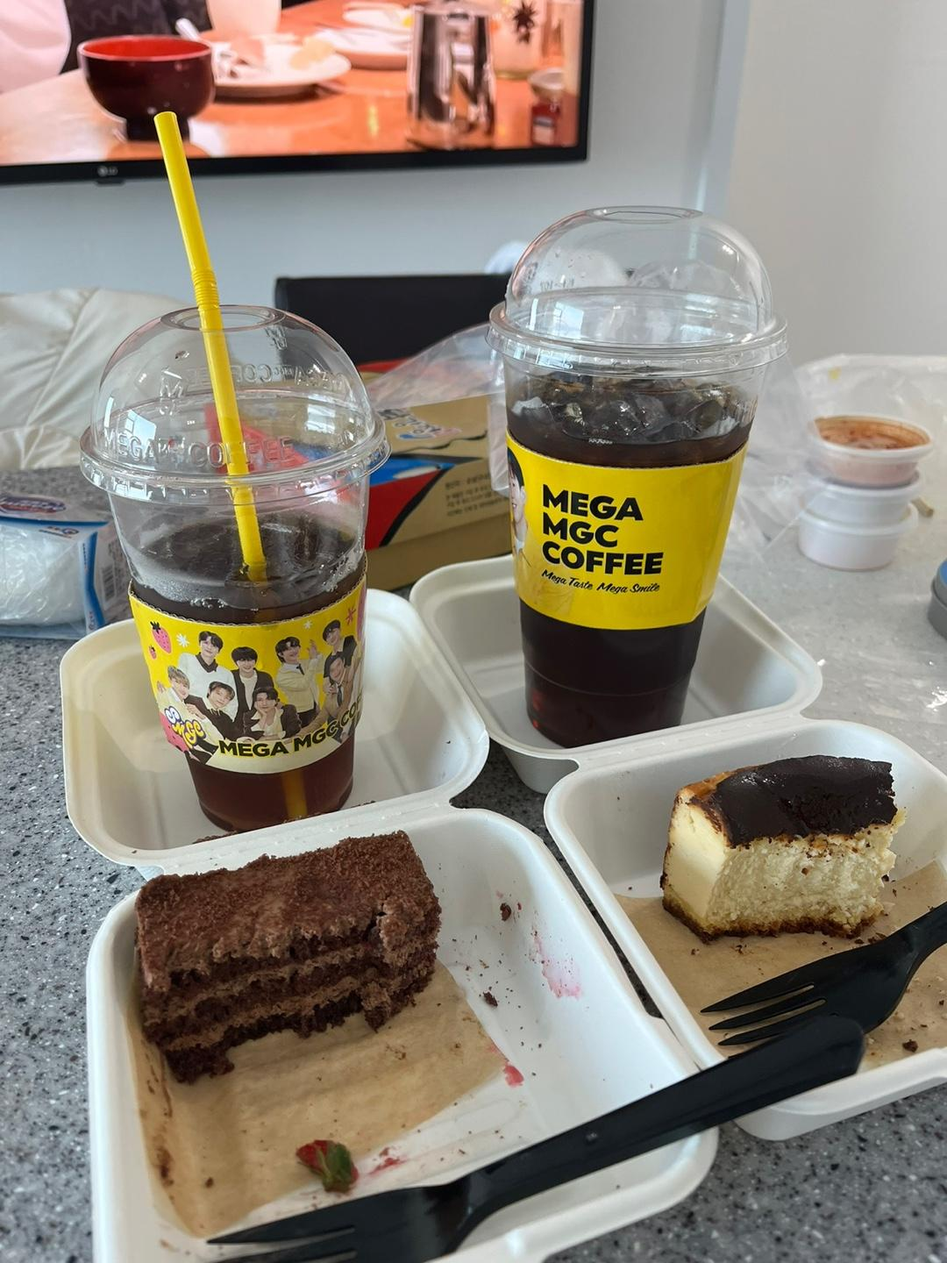Bottle: (81, 112, 388, 830), (488, 207, 785, 744)
Lunch Box: (61, 591, 860, 1262), (410, 558, 946, 1138)
